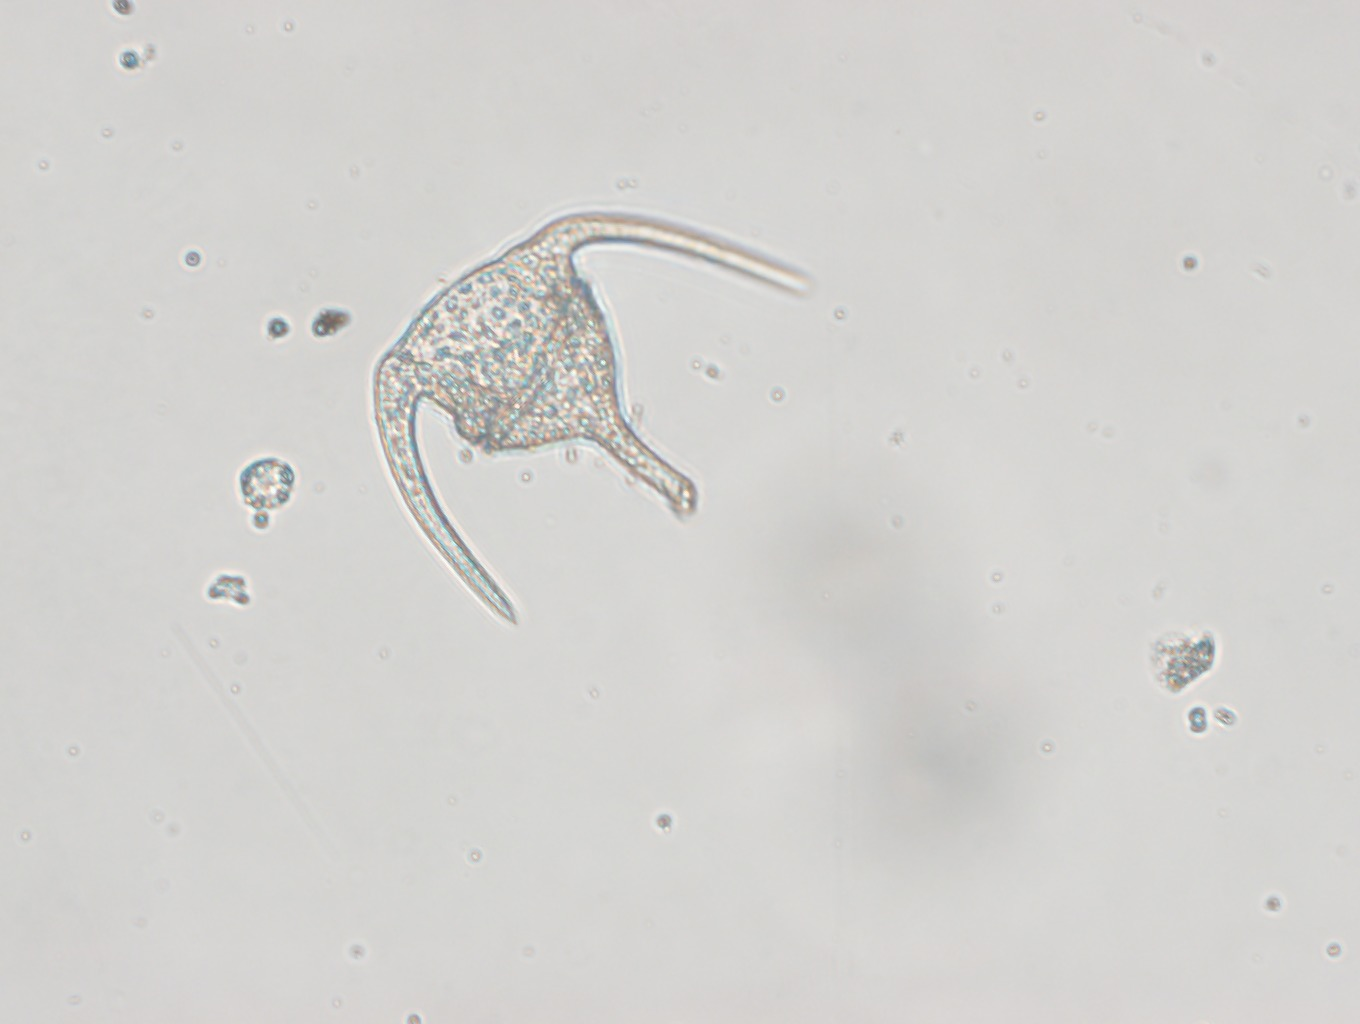ceratium tripos: (346, 204, 819, 627)
